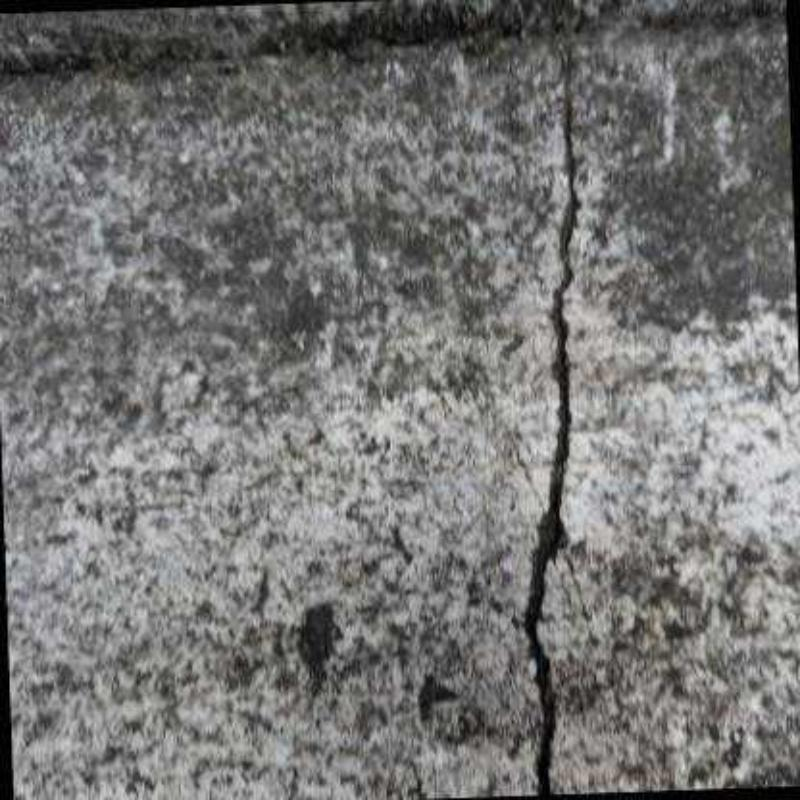pothole: (527, 88, 578, 795)
